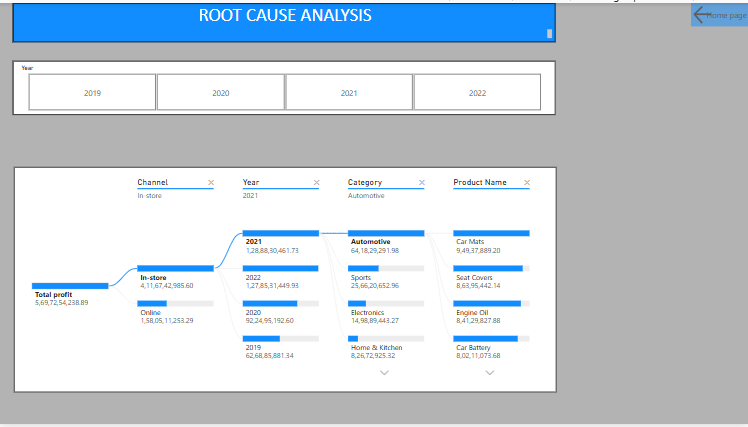

The dashboard page shown, as its layout file describes it:
{"tool":"powerbi","page":{"name":"Rootcause Analysis","canvas":[1280,720],"ordinal":3},"visuals":[{"type":"textbox","title":"ROOT CAUSE ANALYSIS","box":[22.7,0,926.9,66.6],"z":0},{"type":"decompositionTreeVisual","fields":{"Analyze":["Sales table.Total profit"],"ExplainBy":["Sales table.Channel","Dates.Year","Products.Category","Products.Product Name"]},"box":[23.5,280.5,927.2,384.7],"z":1000},{"type":"slicer","fields":{"Values":["Dates.Year"]},"box":[23,99.4,927.4,92.2],"z":2000},{"type":"actionButton","box":[1180.8,0,99.4,40.3],"z":3000}]}

Visuals, with their boxes in screenshot pixels (x1, y1, x2, y2), scaled from the page's 1280x720 canvas onto the 748x427 screenshot:
"ROOT CAUSE ANALYSIS" textbox: BBox(13, 0, 555, 39)
decompositionTreeVisual - Sales table.Total profit x Sales table.Channel: BBox(14, 166, 556, 395)
slicer - Dates.Year: BBox(13, 59, 555, 114)
actionButton: BBox(690, 0, 747, 24)
